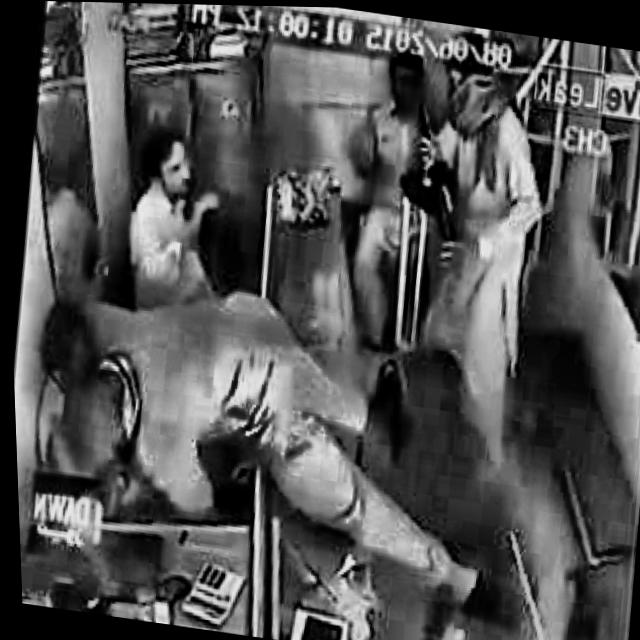robbery: (7, 255, 529, 622), (364, 25, 576, 487), (109, 119, 233, 292)
